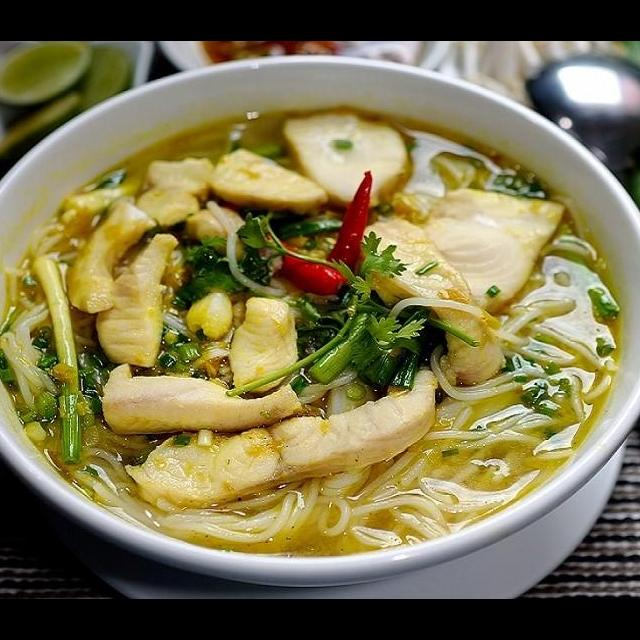bun: (484, 231, 629, 407), (422, 376, 590, 519), (0, 217, 103, 419), (132, 497, 464, 551)
bun ca: (0, 79, 633, 599)
ca: (114, 361, 443, 506), (349, 207, 517, 387), (92, 354, 313, 442), (86, 223, 188, 374), (227, 293, 307, 396)
